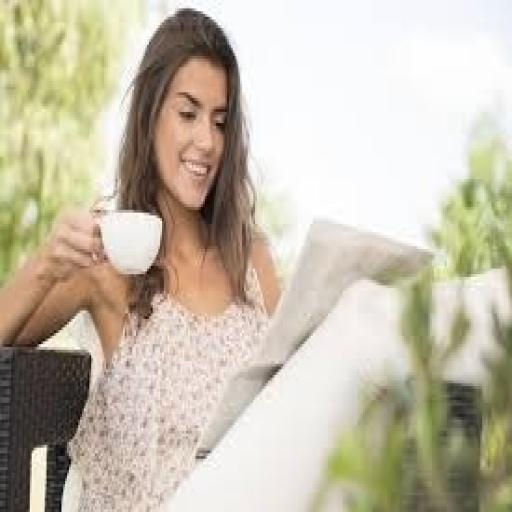drinking: (89, 204, 162, 277)
